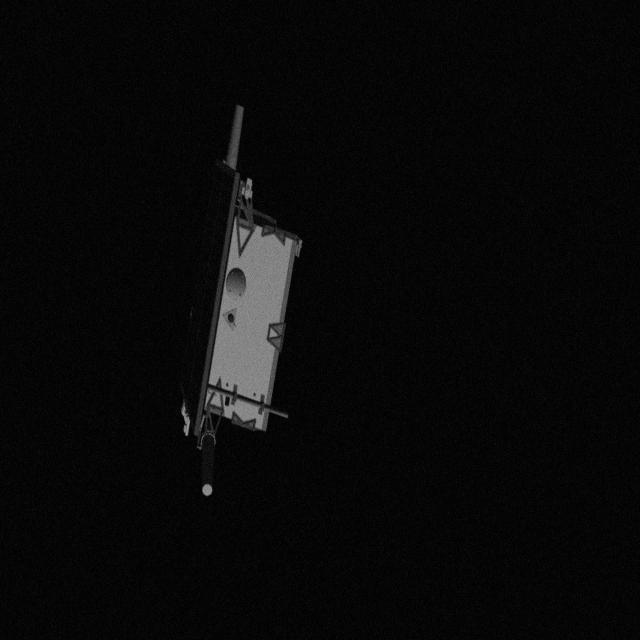medium_debris: (188, 108, 310, 508)
